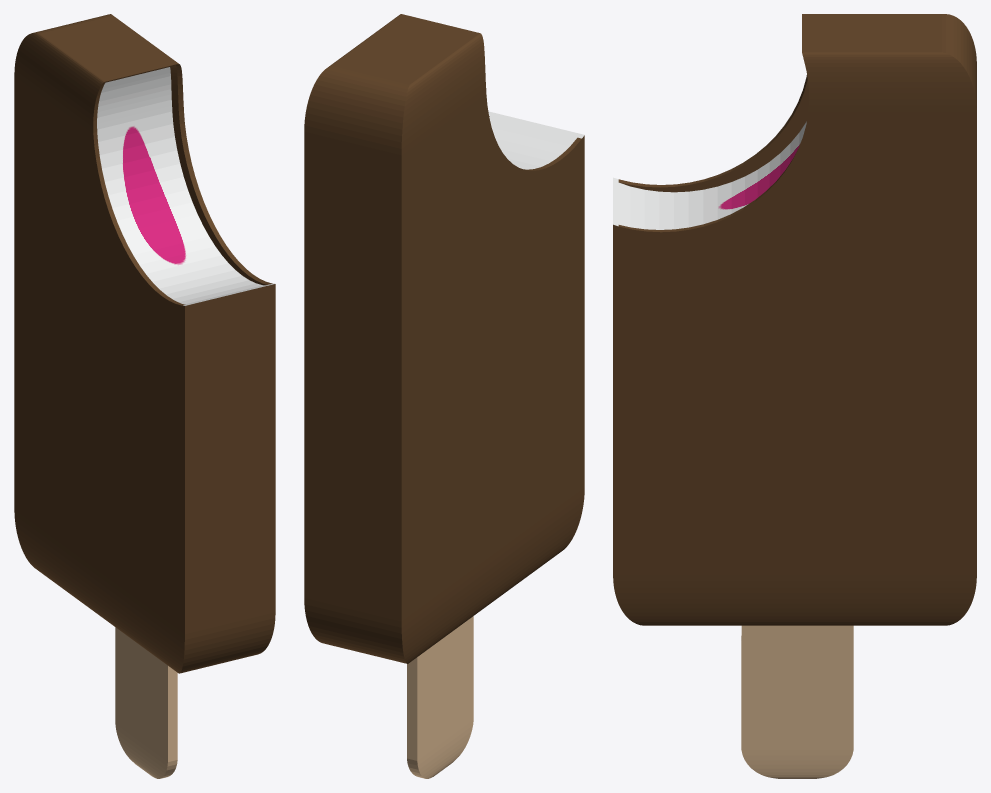
The model's file is creamyinsides.fbx.
3 views of the same model, side by side, from view 1: azimuth 30°, elevation 25°; view 2: azimuth 150°, elevation 25°; view 3: azimuth 270°, elevation 25° (orthographic). The views are drawn at different scales.
Visible parts, largest first — view 1: Cube.018, Cube.017; view 2: Cube.018, Cube.017; view 3: Cube.018, Cube.017.
Boxes of the visible parts, x1,y1,x2,y2 form: Cube.018: [14, 14, 275, 673]; Cube.017: [115, 627, 177, 778]; Cube.018: [304, 14, 584, 663]; Cube.017: [407, 616, 473, 778]; Cube.018: [613, 14, 976, 625]; Cube.017: [741, 625, 853, 778].
Bounding box in the file's own units: 161 × 1179 × 523.
2 materials, 1 textured.
